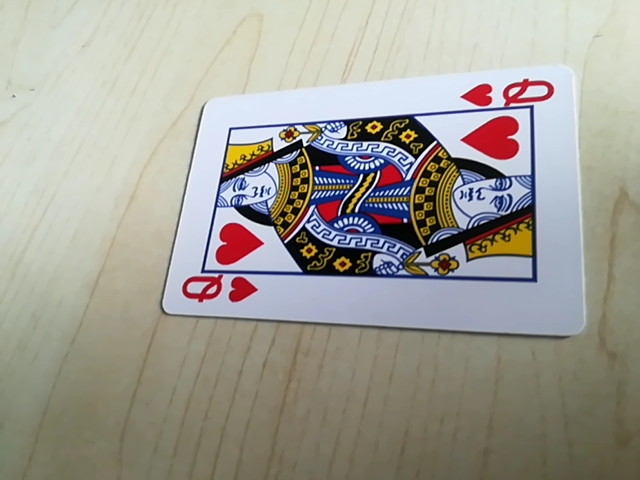hx q: (460, 74, 558, 114), (178, 272, 261, 311)
